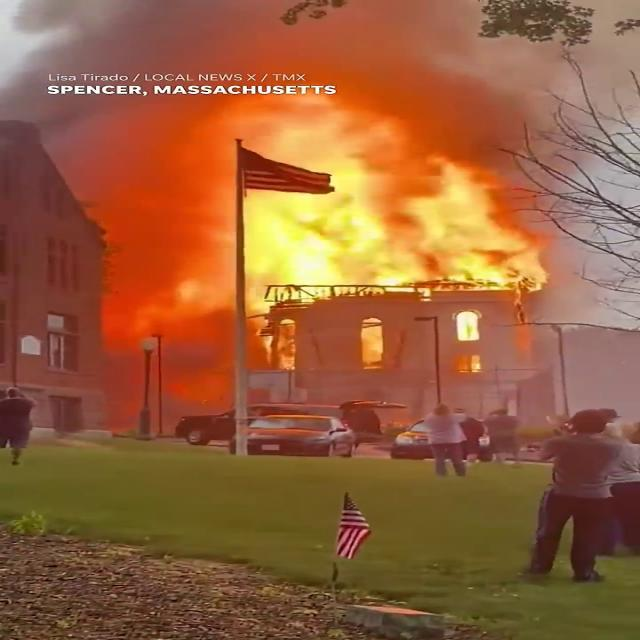Fire: (105, 100, 570, 302)
Smoke: (388, 6, 640, 180)
